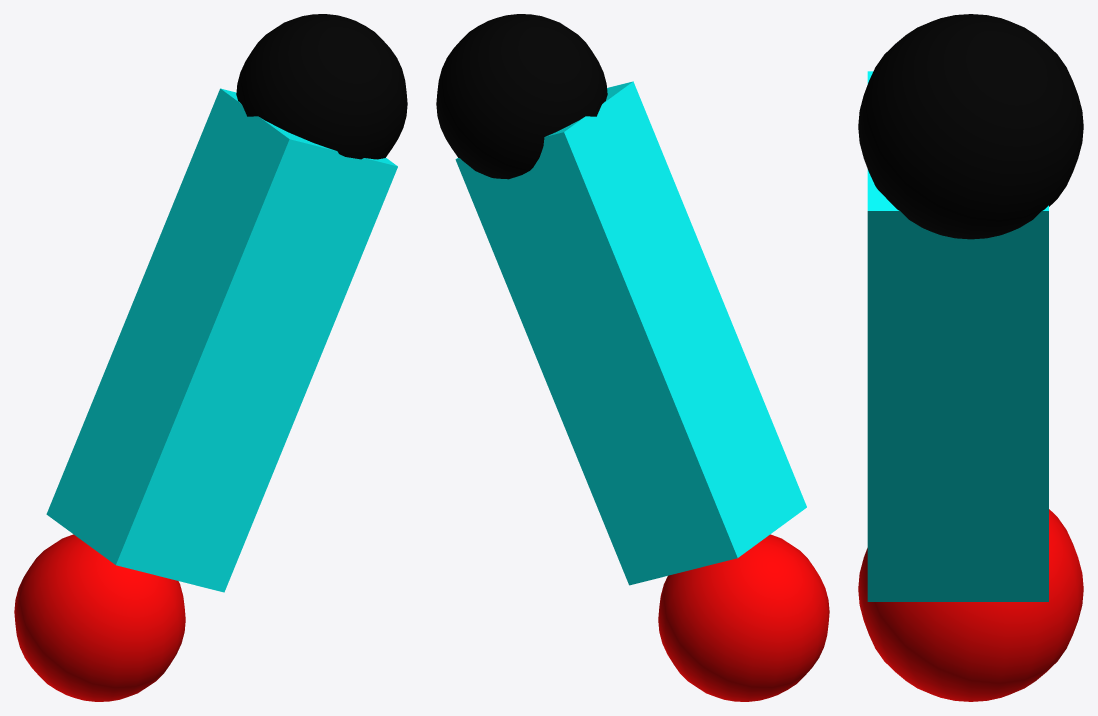
The model's file is hand2.obj.
3 views of the same model, side by side, from view 1: azimuth 30°, elevation 25°; view 2: azimuth 150°, elevation 25°; view 3: azimuth 270°, elevation 25° (orthographic). The views are drawn at different scales.
Parts seen in each view (by area): view 1: pCube30 polySurface4, pCube30 polySurface13, polySurface14 pCube30; view 2: pCube30 polySurface4, pCube30 polySurface13, polySurface14 pCube30; view 3: pCube30 polySurface4, polySurface14 pCube30, pCube30 polySurface13.
Boxes of the visible parts, <box> form: pCube30 polySurface4: <box>46,88,397,592</box>; pCube30 polySurface13: <box>14,534,185,701</box>; polySurface14 pCube30: <box>236,14,407,159</box>; pCube30 polySurface4: <box>455,81,806,585</box>; pCube30 polySurface13: <box>658,534,829,701</box>; polySurface14 pCube30: <box>436,14,607,179</box>; pCube30 polySurface4: <box>867,71,1048,601</box>; polySurface14 pCube30: <box>858,14,1083,239</box>; pCube30 polySurface13: <box>858,509,1083,701</box>.
Size of the model in its own units: 2.35 by 3.75 by 0.9467.
